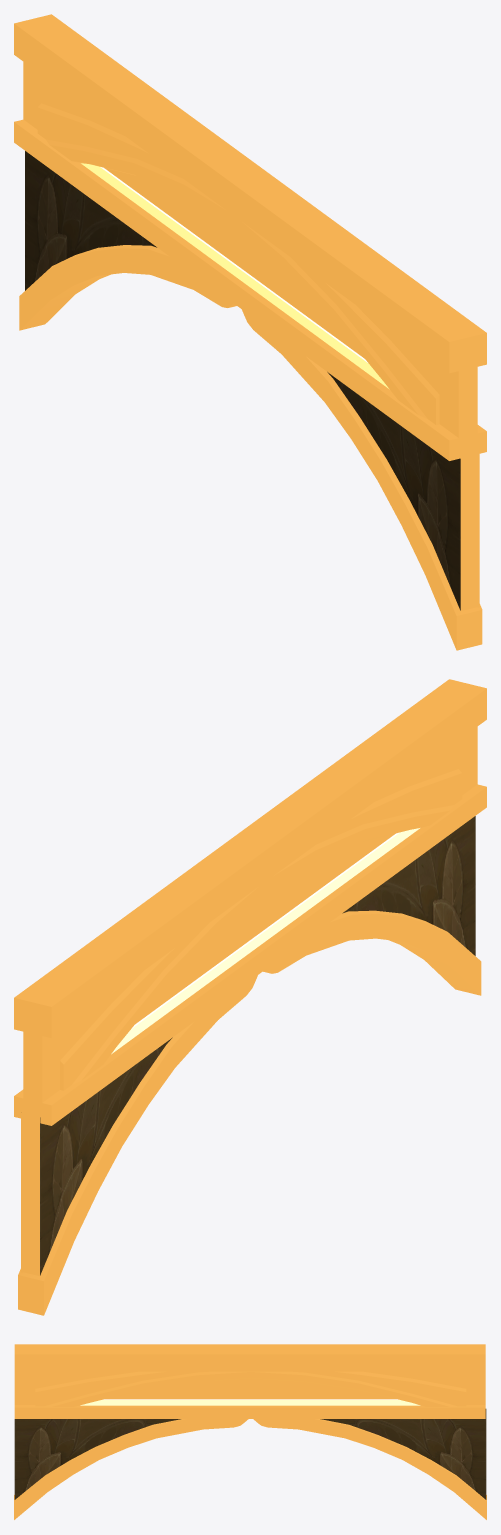
File: Homeworld_Interior_Xm_Room_Wall_04_Vo.fbx
3 views of the same model, one above another, from view 1: azimuth 30°, elevation 25°; view 2: azimuth 150°, elevation 25°; view 3: azimuth 270°, elevation 25° (orthographic). The views are drawn at different scales.
Parts seen in each view (by area): view 1: Homeworld_Interior_Xm_Room_Wall_04_Vo; view 2: Homeworld_Interior_Xm_Room_Wall_04_Vo; view 3: Homeworld_Interior_Xm_Room_Wall_04_Vo.
Part boxes in pixels (<box>): Homeworld_Interior_Xm_Room_Wall_04_Vo: <box>14,14,486,650</box>; Homeworld_Interior_Xm_Room_Wall_04_Vo: <box>14,679,486,1315</box>; Homeworld_Interior_Xm_Room_Wall_04_Vo: <box>14,1344,486,1519</box>.
Size of the model in its own units: 0.25 by 1.96 by 5.03.
